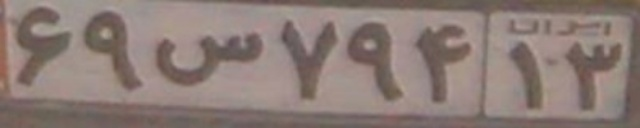1: (506, 42, 542, 108)
3: (565, 41, 624, 111)
4: (417, 23, 471, 102)
6: (12, 5, 71, 85)
7: (277, 19, 340, 99)
9: (345, 21, 405, 100), (83, 8, 141, 89)
sin: (160, 32, 261, 87)
